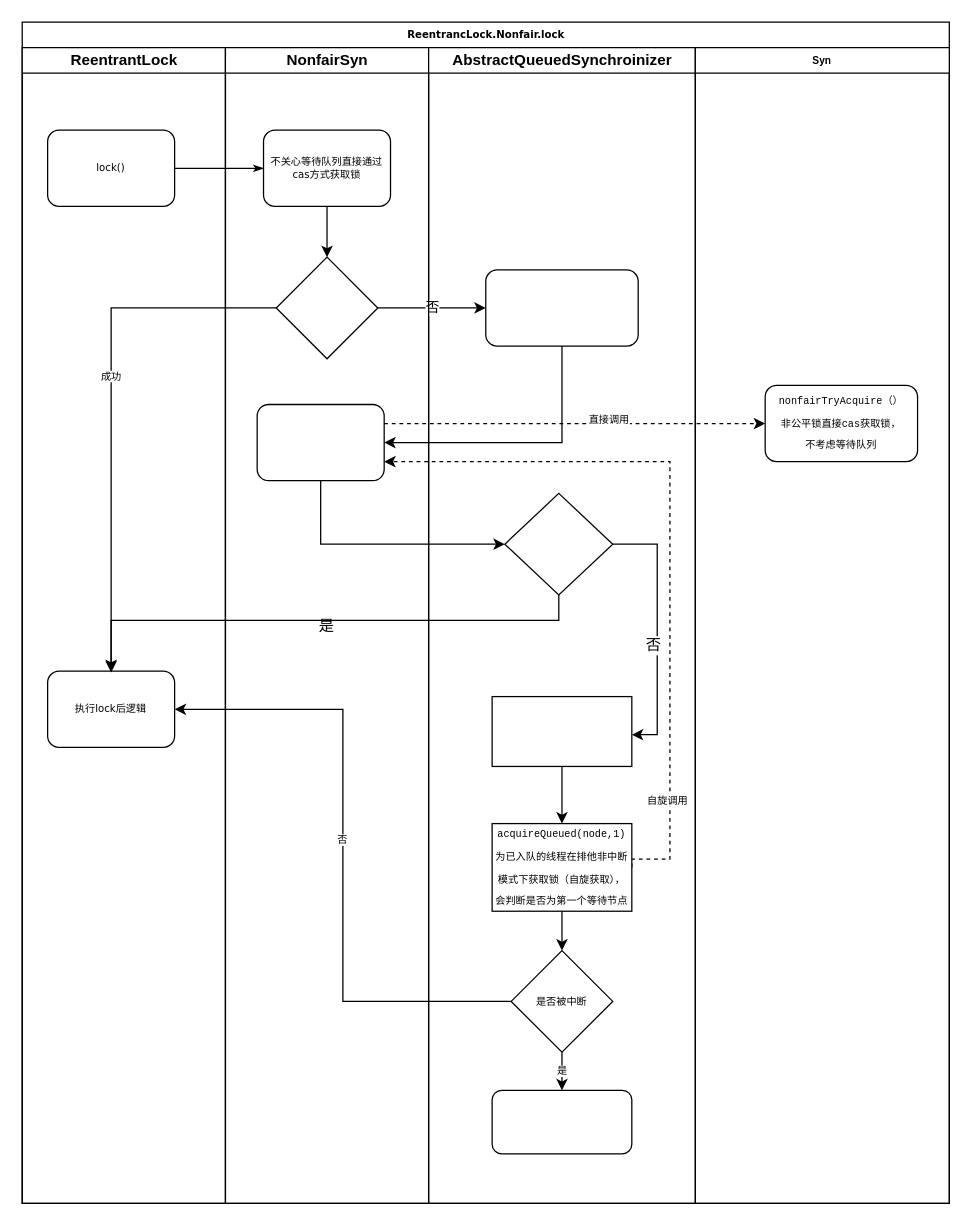
Some shapes in this 972 by 1226 pixel diagram are drawn without their labels. Each missing label, with the centre of its shape:
acquire(1): pixel 561 307
addWaiter( Node. EXCLUSIVE ) 以非共享锁模式加入等待队列.此操作使用cas和自旋方式操作进行入队，最终一定成功: pixel 561 730
tryAcquire(1): pixel 320 442
成功？: pixel 326 307
自行中断: pixel 561 1121
获取成功？: pixel 558 543
